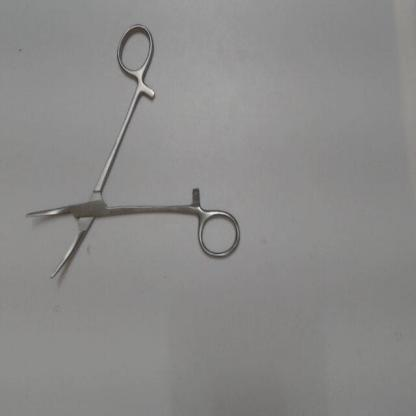Crile Artery Forceps: (21, 18, 242, 288)
